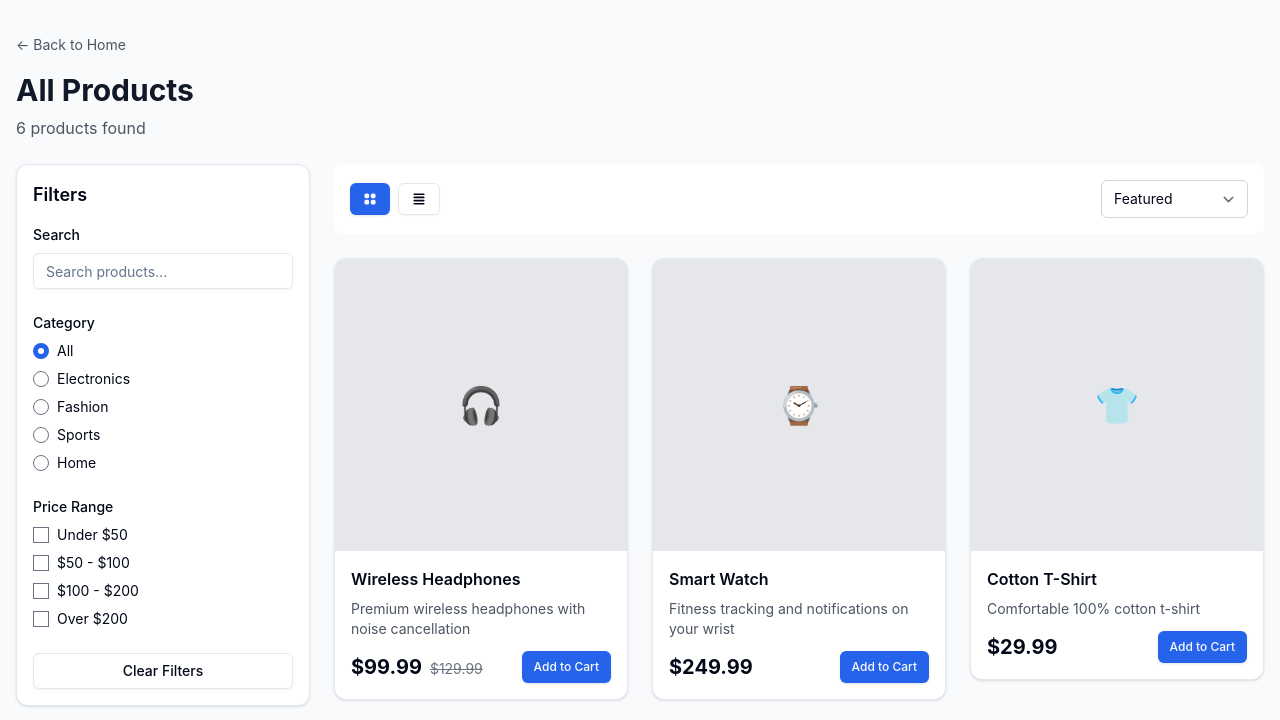
Test: ProductsPage - Category Filter › should filter products by category
This screenshot has width=1280, height=720.
Click the radio button with test id "category-Electronics".
click(41, 379)  # box [33,371,49,387]
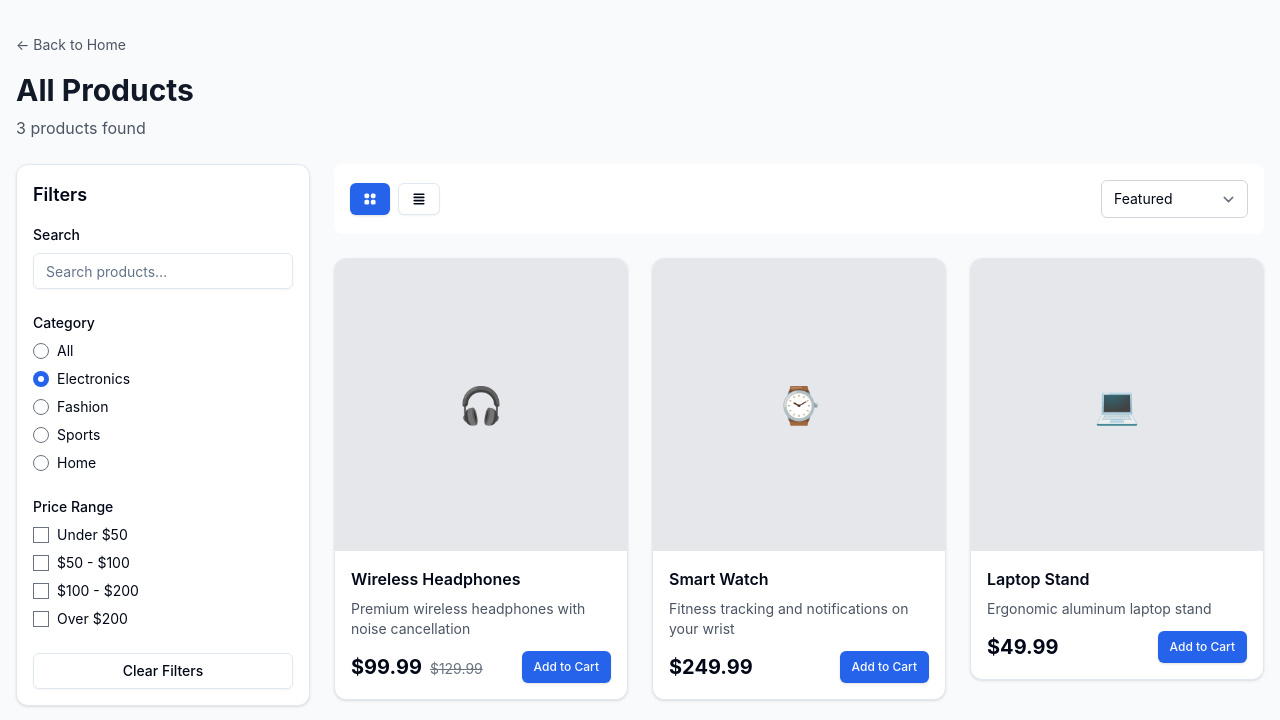
Check: the heading "Wireless Headphones" is shown, box [351,569,520,589]
Check: the link "Cotton T-Shirt" is gone
